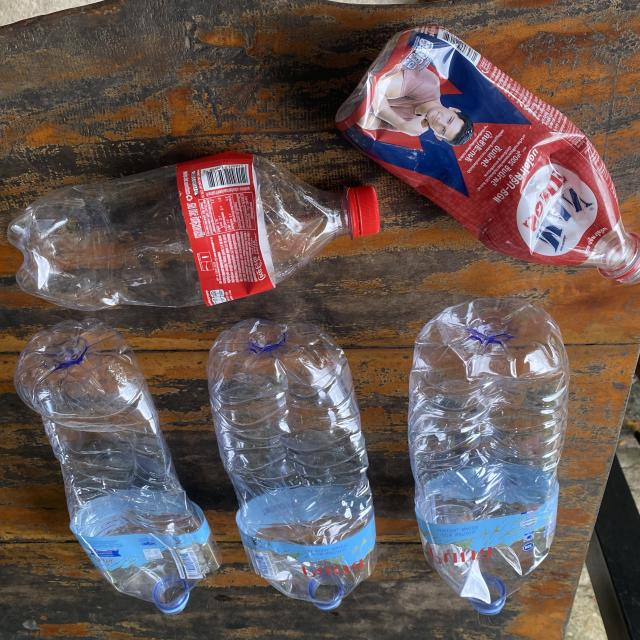plastik: (335, 26, 640, 284), (15, 318, 221, 614), (8, 153, 378, 311), (408, 297, 570, 615), (207, 318, 376, 610)
